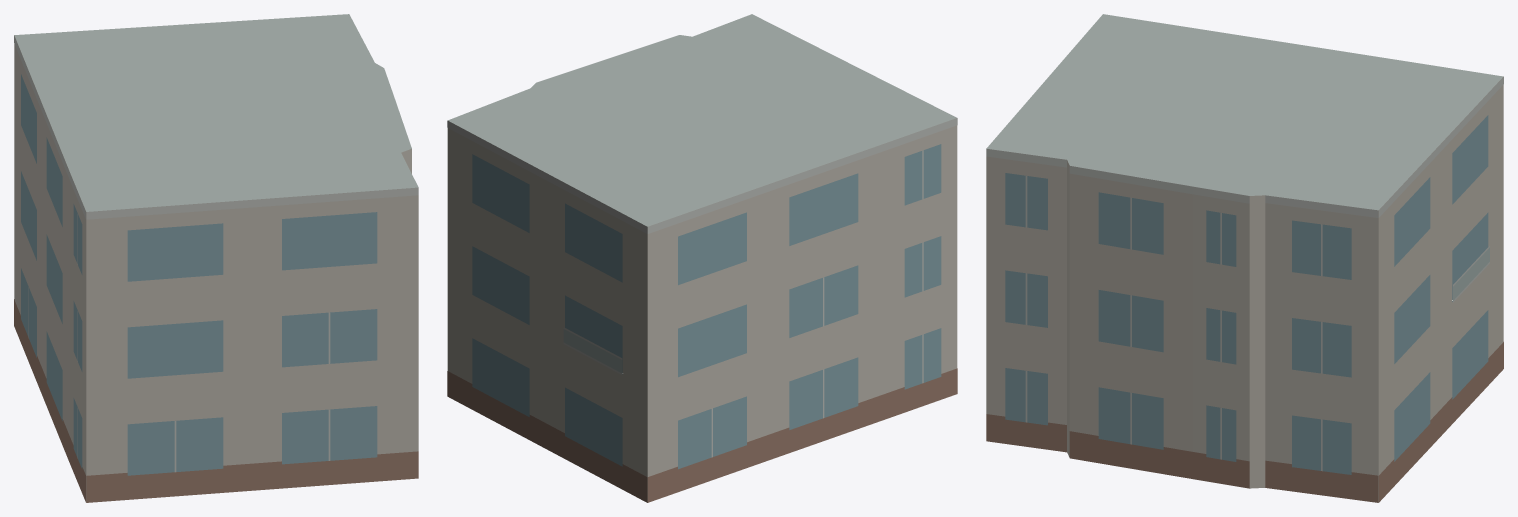
File: survey-upis-32556198.glb
3 renders of one model, left to right at view 1: azimuth 30°, elevation 25°; view 2: azimuth 150°, elevation 25°; view 3: azimuth 270°, elevation 25°, orthographic. The views are drawn at different scales.
Visible parts, largest first — view 1: survey-upis-32556198.tmp; view 2: survey-upis-32556198.tmp; view 3: survey-upis-32556198.tmp.
Part boxes in pixels (x1=…): survey-upis-32556198.tmp: x1=14, y1=14, x2=418, y2=502; survey-upis-32556198.tmp: x1=447, y1=14, x2=957, y2=502; survey-upis-32556198.tmp: x1=986, y1=14, x2=1503, y2=502.
Size of the model in its own units: 13.18 by 9.15 by 14.68.
